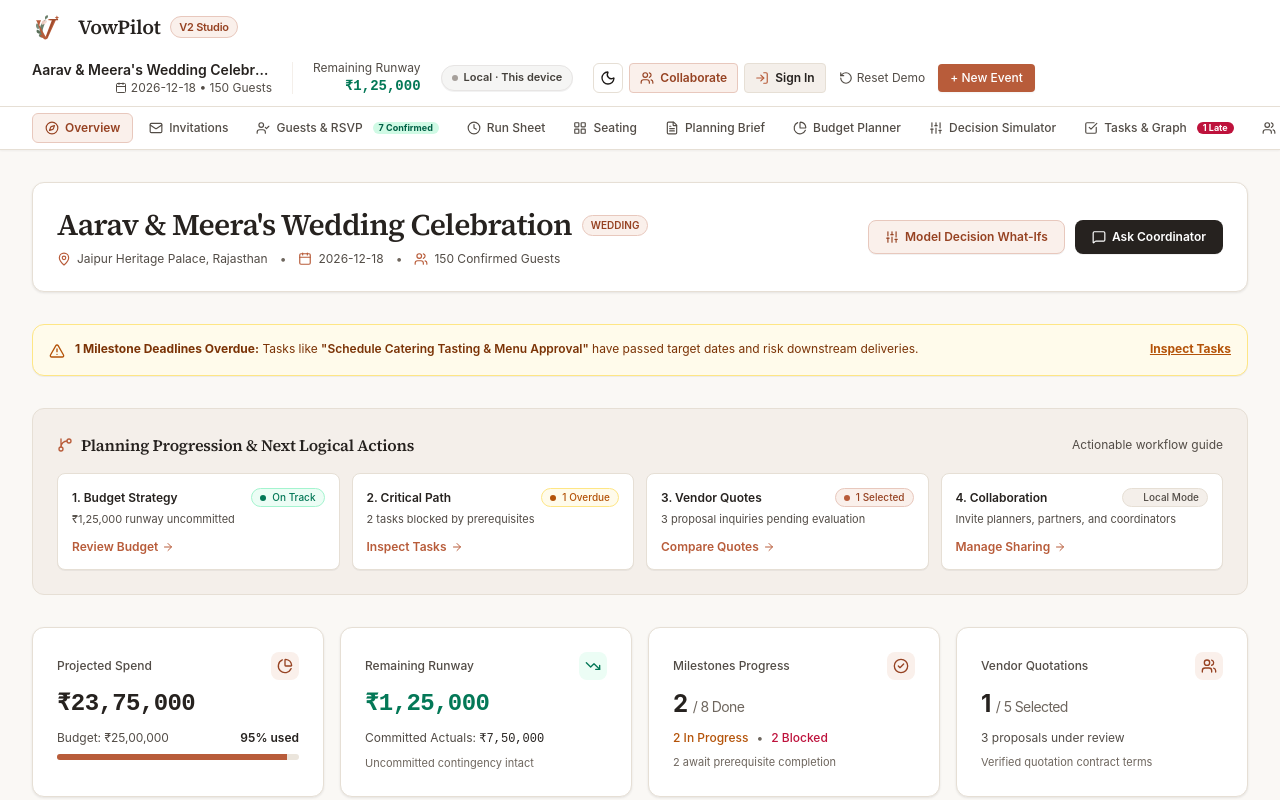
Test case: VowPilot End-to-End User Journeys and UI Integration › runs interactive needs assessment wizard with strict field validation
The width and height of the screenshot is (1280, 800).
Click + New Event button in header
Click the button "+ New Event".
click(987, 78)  # box [938, 64, 1035, 92]
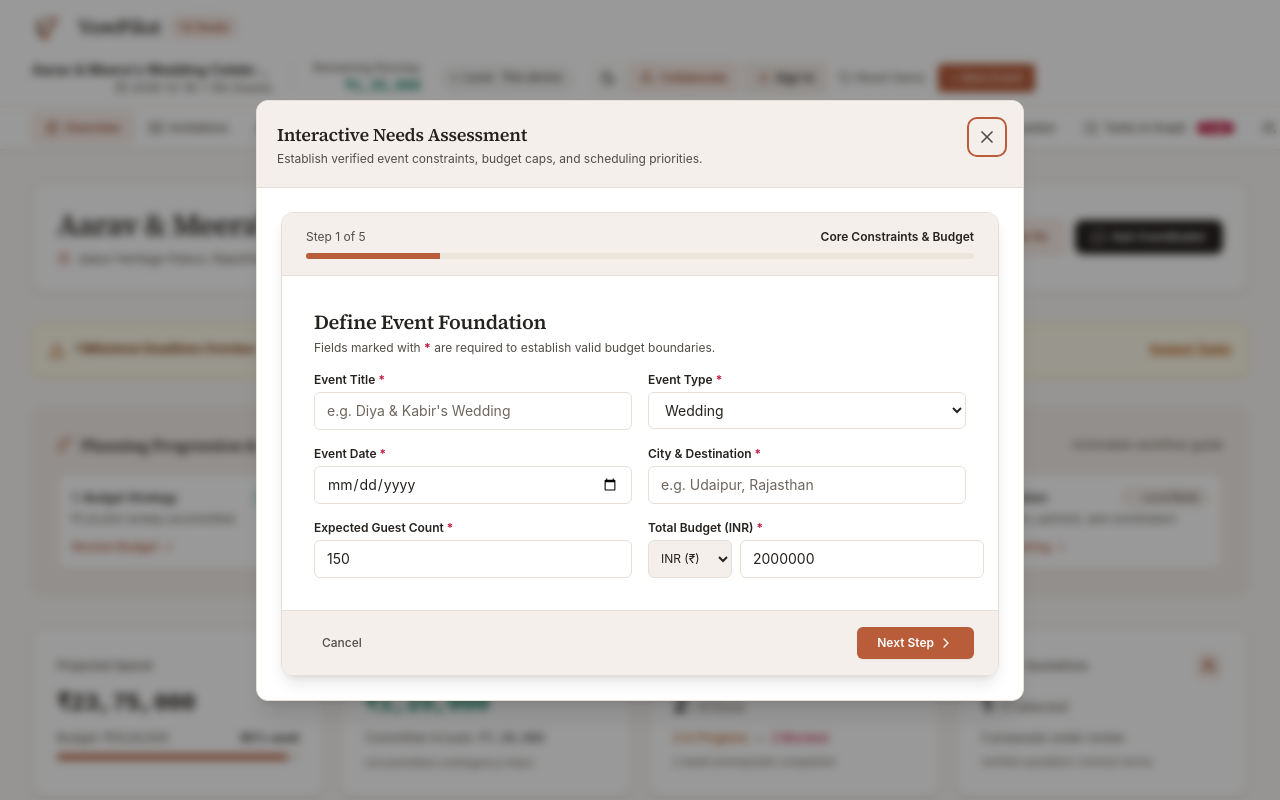
Check: the heading "Define Event Foundation" is shown, box [314, 308, 546, 336]
Attempt to proceed without required fields
Click the button "Next Step".
click(916, 642)  # box [857, 626, 974, 658]
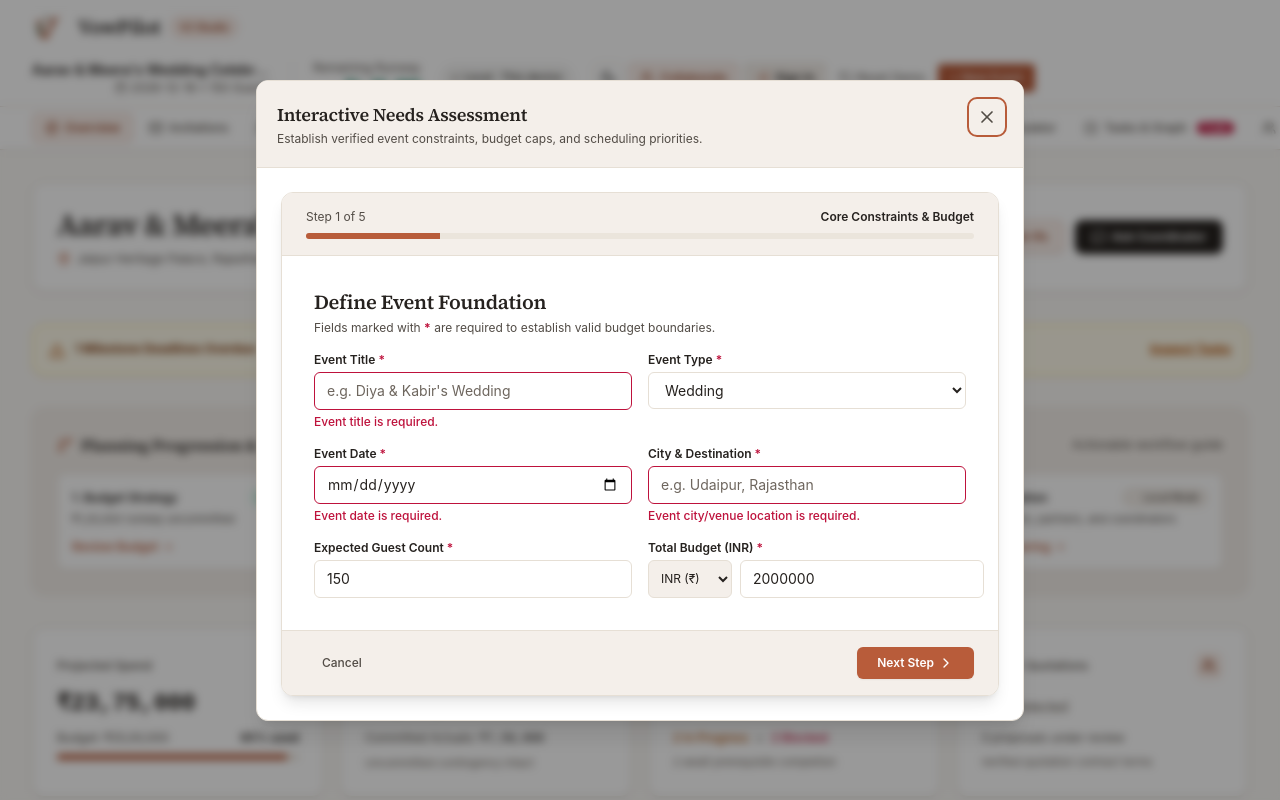
Check: the text "Event title is required." is shown, box [314, 414, 438, 428]
Check: the text "Event date is required." is shown, box [314, 508, 442, 522]
